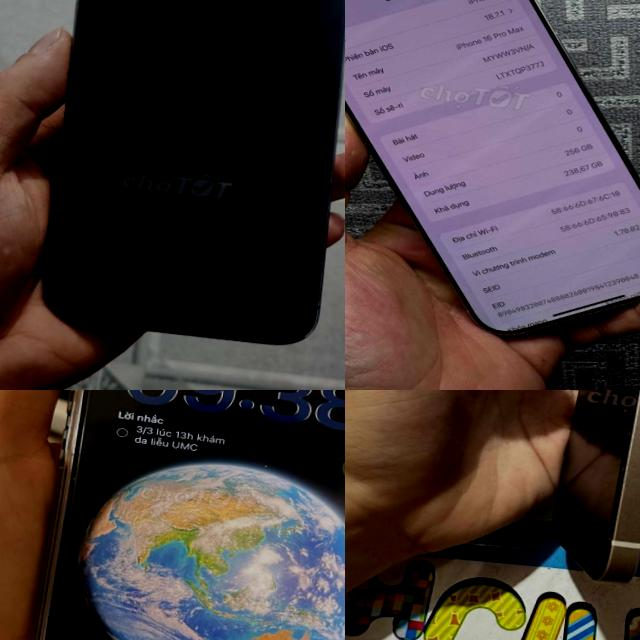gen_12_13: (3, 390, 345, 640), (557, 390, 640, 596)
gen_14: (30, 0, 345, 365)
gen_16: (345, 0, 640, 333)
